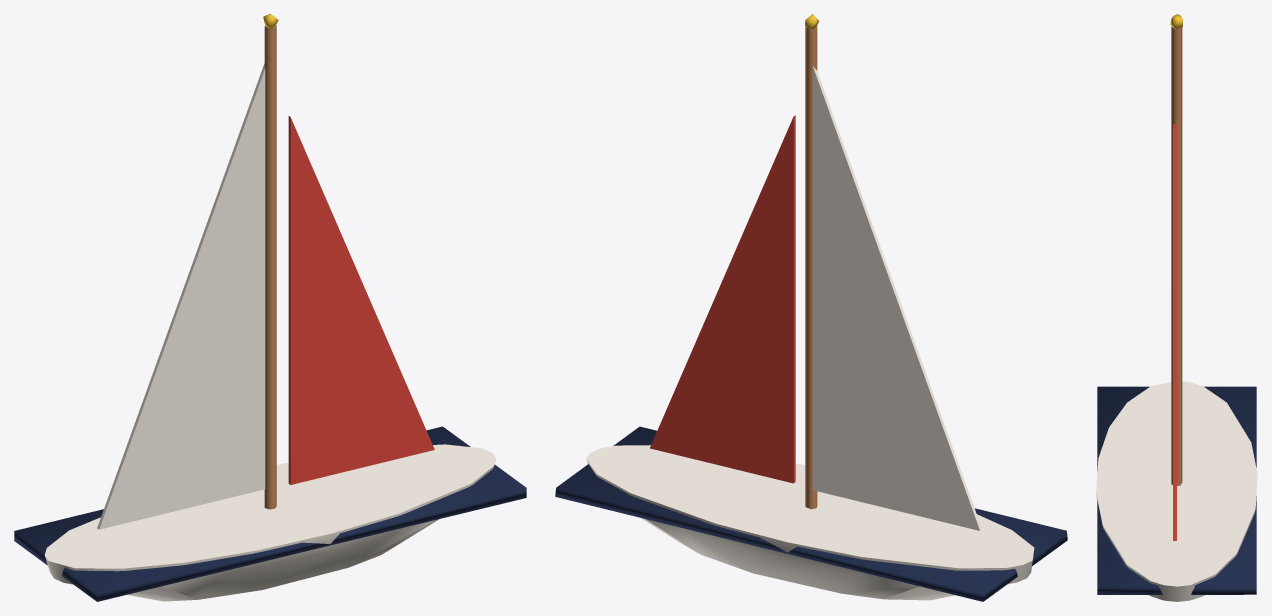
Rendered from sailboat.glb.
3 views of the same model, side by side, from view 1: azimuth 30°, elevation 25°; view 2: azimuth 150°, elevation 25°; view 3: azimuth 270°, elevation 25° (orthographic). The views are drawn at different scales.
Visible parts, largest first — view 1: sailboat; view 2: sailboat; view 3: sailboat.
Part boxes in pixels (x1=…): sailboat: x1=14, y1=14, x2=526, y2=601; sailboat: x1=555, y1=14, x2=1067, y2=601; sailboat: x1=1096, y1=14, x2=1257, y2=601.
Bounding box in the file's own units: 4.92 × 5.92 × 1.63.
1 material, 1 textured.
